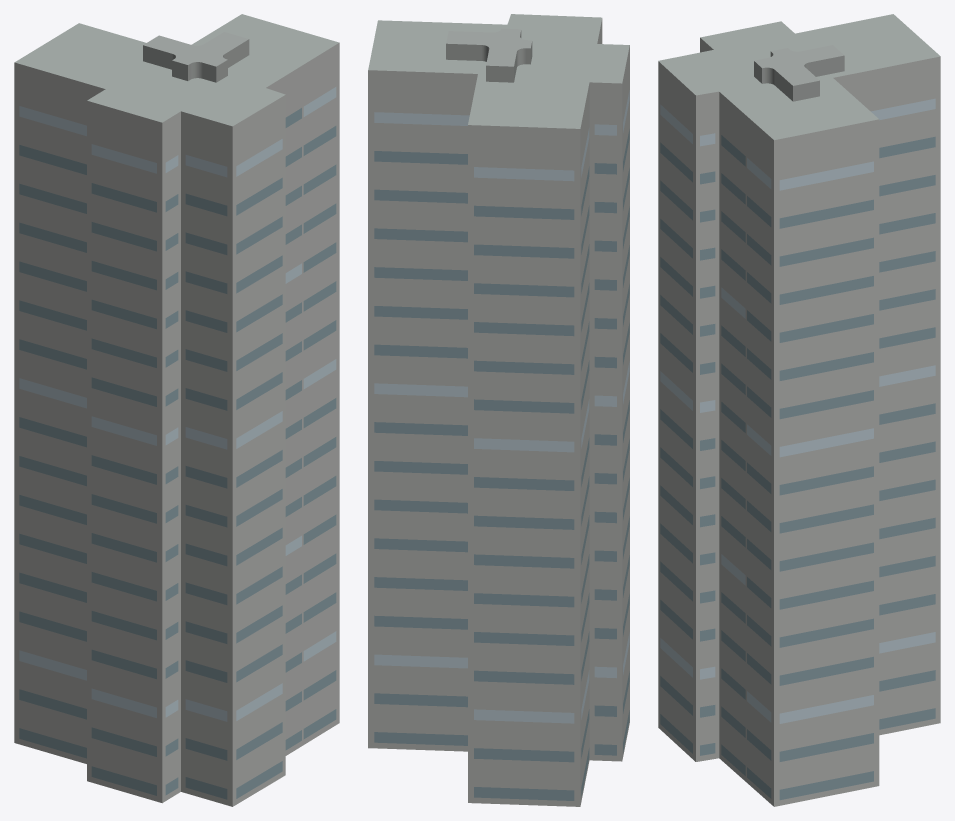
The model's file is fallback-dmc-raemian-e-pyeonhansesang-113.glb.
The picture shows the model from 3 angles, left to right: view 1: azimuth 30°, elevation 25°; view 2: azimuth 150°, elevation 25°; view 3: azimuth 270°, elevation 25°; orthographic projection. The views are drawn at different scales.
Visible parts, largest first — view 1: fallback-dmc-raemian-e-pyeonhansesang-113; view 2: fallback-dmc-raemian-e-pyeonhansesang-113; view 3: fallback-dmc-raemian-e-pyeonhansesang-113.
Boxes of the visible parts, bbox=[...] form: fallback-dmc-raemian-e-pyeonhansesang-113: bbox=[14, 14, 339, 806]; fallback-dmc-raemian-e-pyeonhansesang-113: bbox=[368, 14, 629, 806]; fallback-dmc-raemian-e-pyeonhansesang-113: bbox=[658, 14, 940, 806].
Size of the model in its own units: 41.27 by 104 by 39.04.
